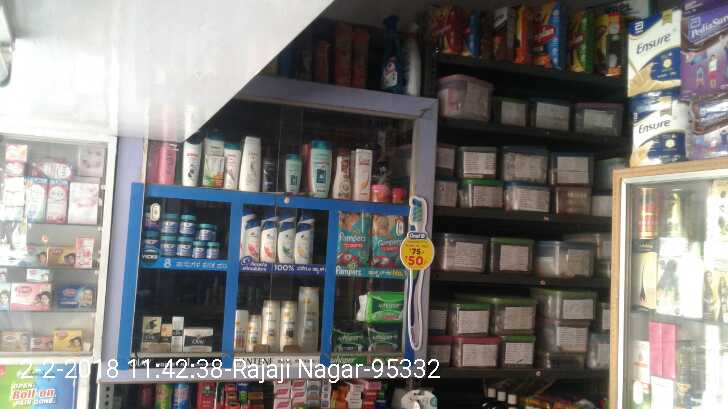beauty: (297, 286, 321, 350), (182, 325, 215, 354), (279, 296, 296, 351), (261, 297, 278, 352), (239, 221, 262, 260), (295, 224, 316, 264), (276, 221, 296, 262), (138, 315, 160, 352), (259, 221, 274, 265), (248, 313, 263, 351)
pharmacy: (336, 214, 370, 268), (373, 212, 401, 267), (364, 290, 406, 321), (330, 328, 367, 355), (369, 325, 398, 351), (179, 213, 197, 235), (160, 211, 177, 233), (159, 235, 176, 256), (176, 236, 193, 256), (206, 241, 220, 259), (193, 240, 206, 258), (199, 222, 211, 239)
